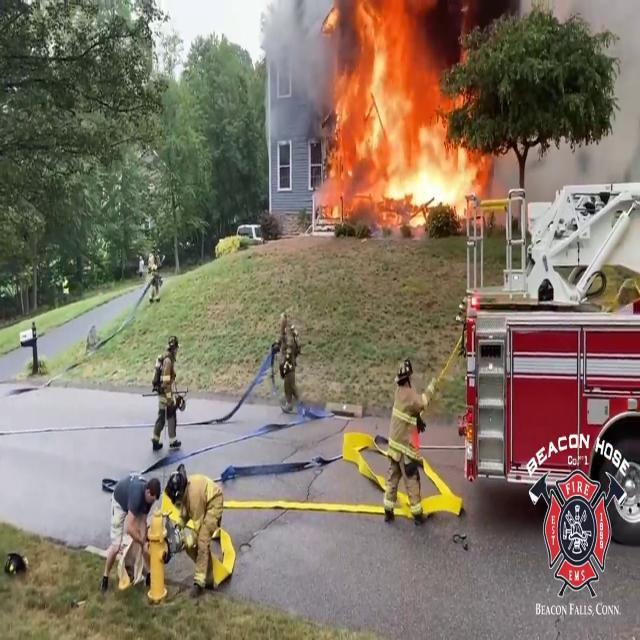Fire: (314, 2, 501, 228)
Smoke: (574, 0, 640, 205)
